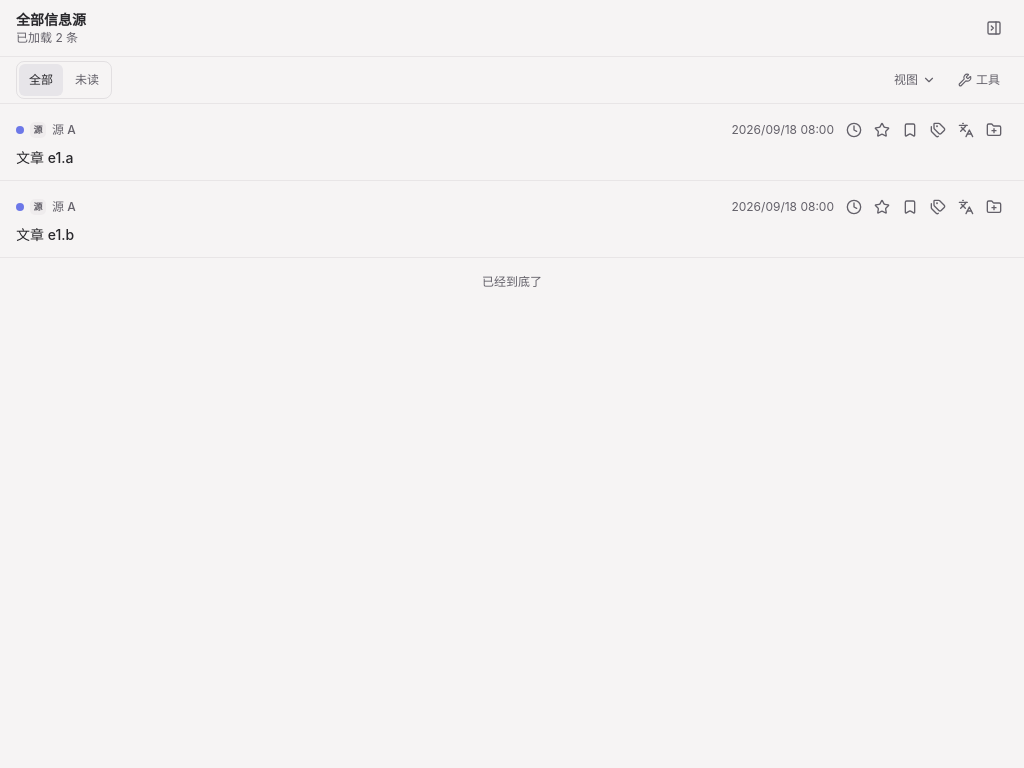
Scenario: F06 排序切换（诚实客户端降级） › 视图选单切换同步 settings；oldest 时 reverse + 常驻诚实标注；received 走服务端；newest 恢复
This screenshot has width=1024, height=768.
Click the button "视图".
click(915, 80)  # box [886,64,944,96]
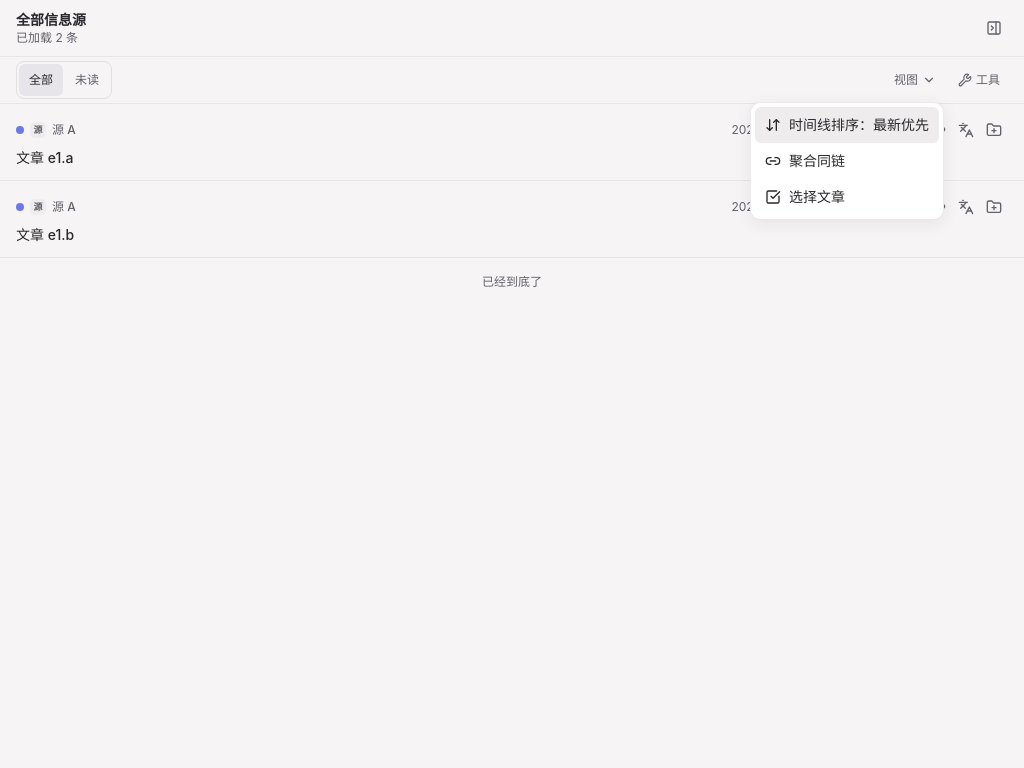
expect the element with test id "timeline-order-toggle" reads "时间线排序：最新优先": met, box [765,115,929,135]
Click the menu item with test id "timeline-order-toggle".
click(847, 125)  # box [755,107,939,143]
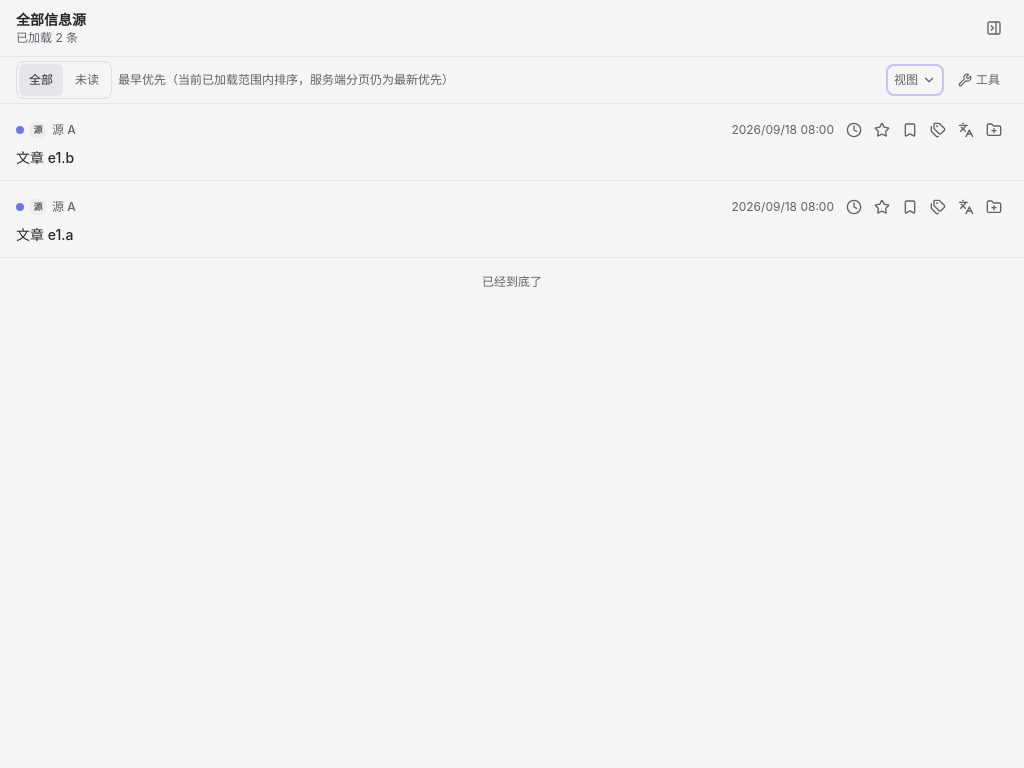
expect the text with test id "timeline-order-note" reads "最早优先（当前已加载范围内排序，服务端分页仍为最新优先）": met, box [118,72,454,87]
Click the button "视图".
click(915, 80)  # box [886,64,944,96]
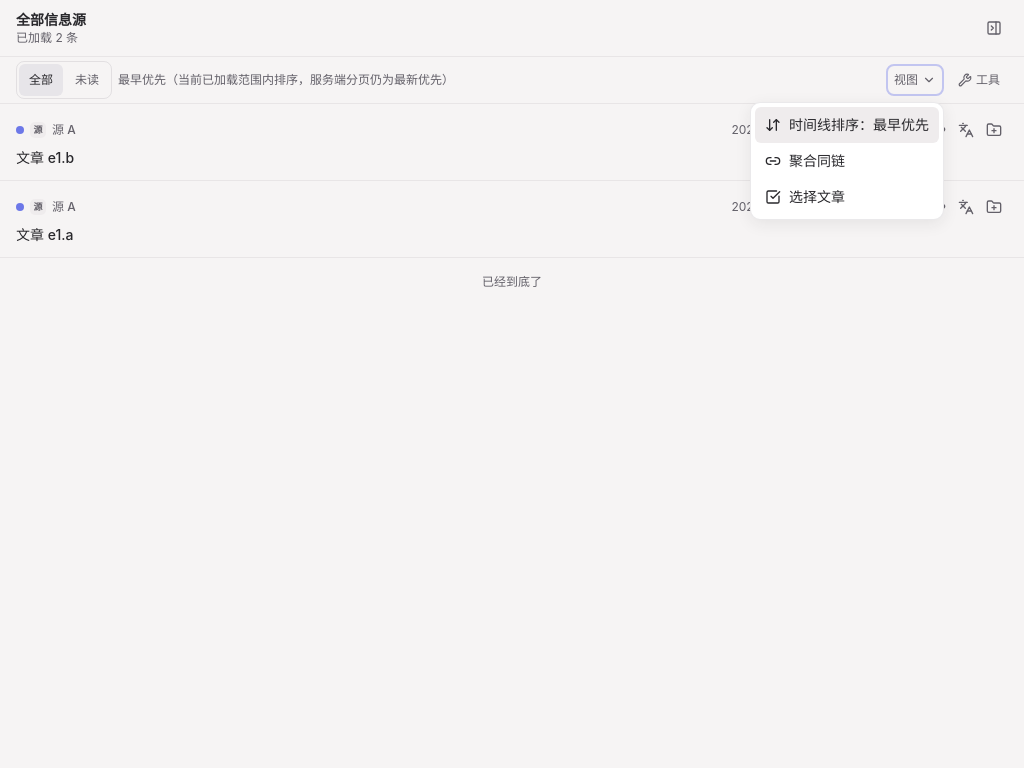
expect the element with test id "timeline-order-toggle" reads "时间线排序：最早优先": met, box [765,115,929,135]
Click the menu item with test id "timeline-order-toggle".
click(847, 125)  # box [755,107,939,143]
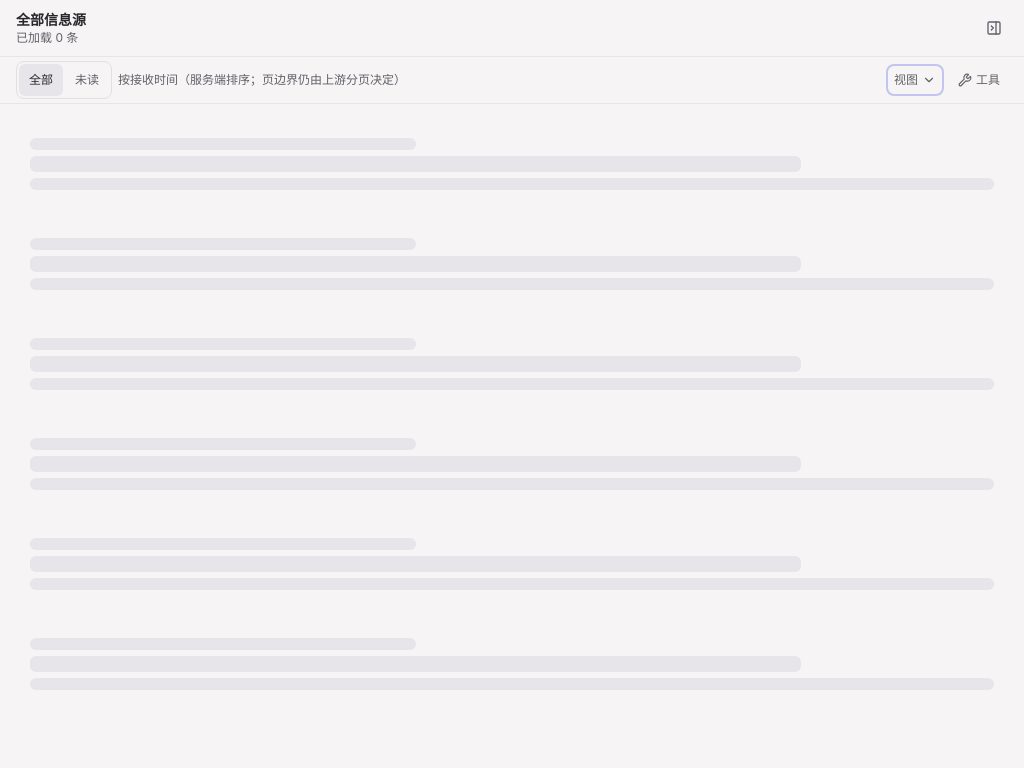
expect the text with test id "timeline-order-received-note" reads "按接收时间（服务端排序；页边界仍由上游分页决定）": met, box [118,72,406,87]
Click the button "视图".
click(915, 80)  # box [886,64,944,96]
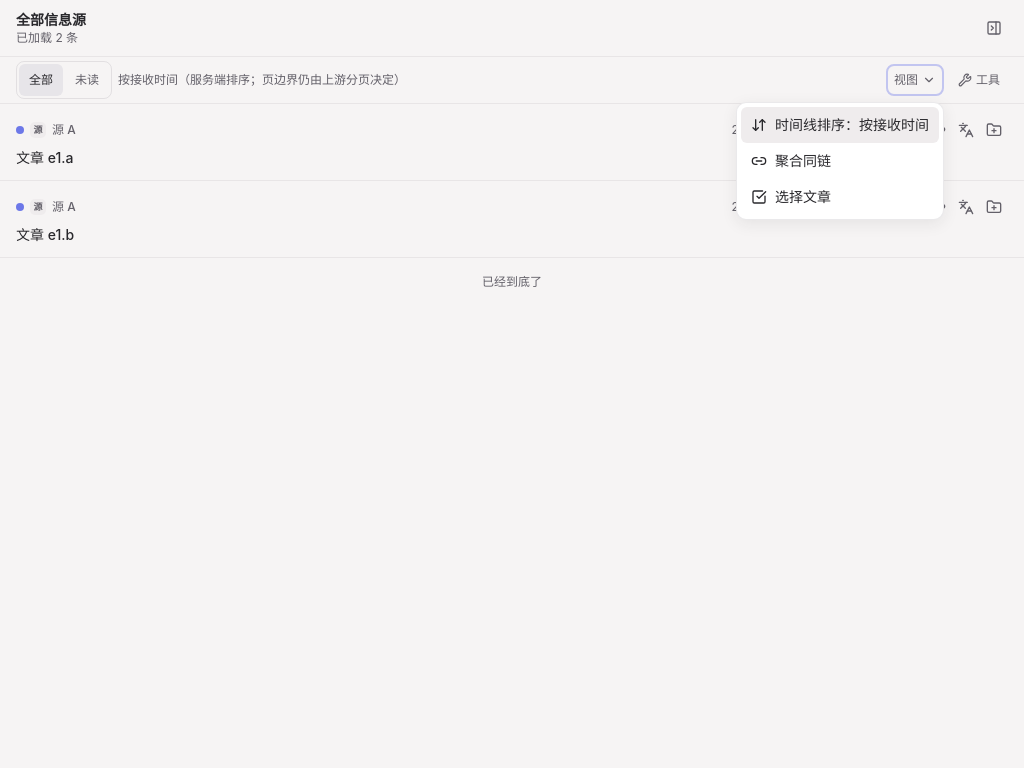
expect the element with test id "timeline-order-toggle" reads "时间线排序：按接收时间": met, box [751,115,929,135]
Click the menu item with test id "timeline-order-toggle".
click(840, 125)  # box [741,107,939,143]
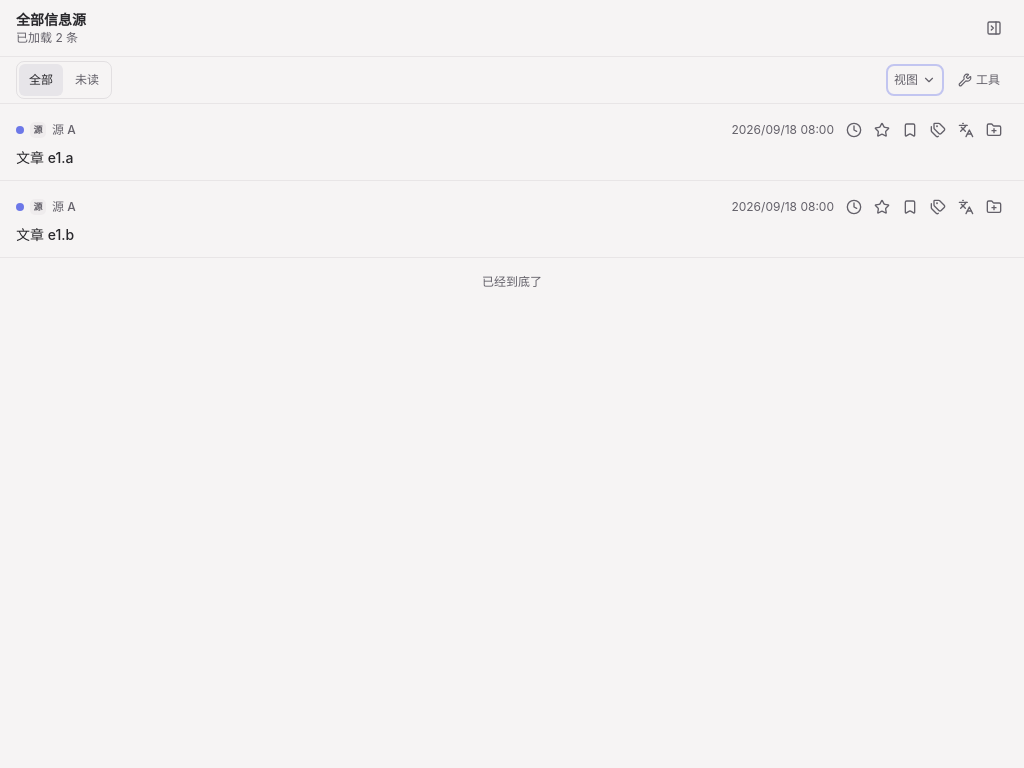
expect the text with test id "timeline-order-received-note" is gone: met
